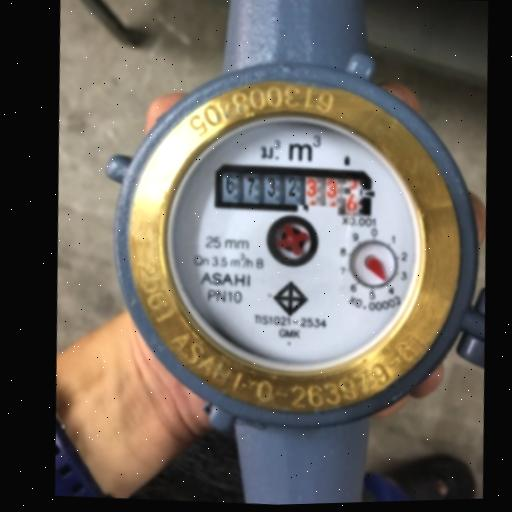2: (283, 173, 301, 205)
3: (322, 177, 342, 207), (302, 176, 321, 206), (262, 174, 280, 205)
6: (342, 177, 363, 217), (220, 172, 239, 203)
7: (240, 173, 259, 204)
border_water_meter_number: (212, 159, 375, 222)
